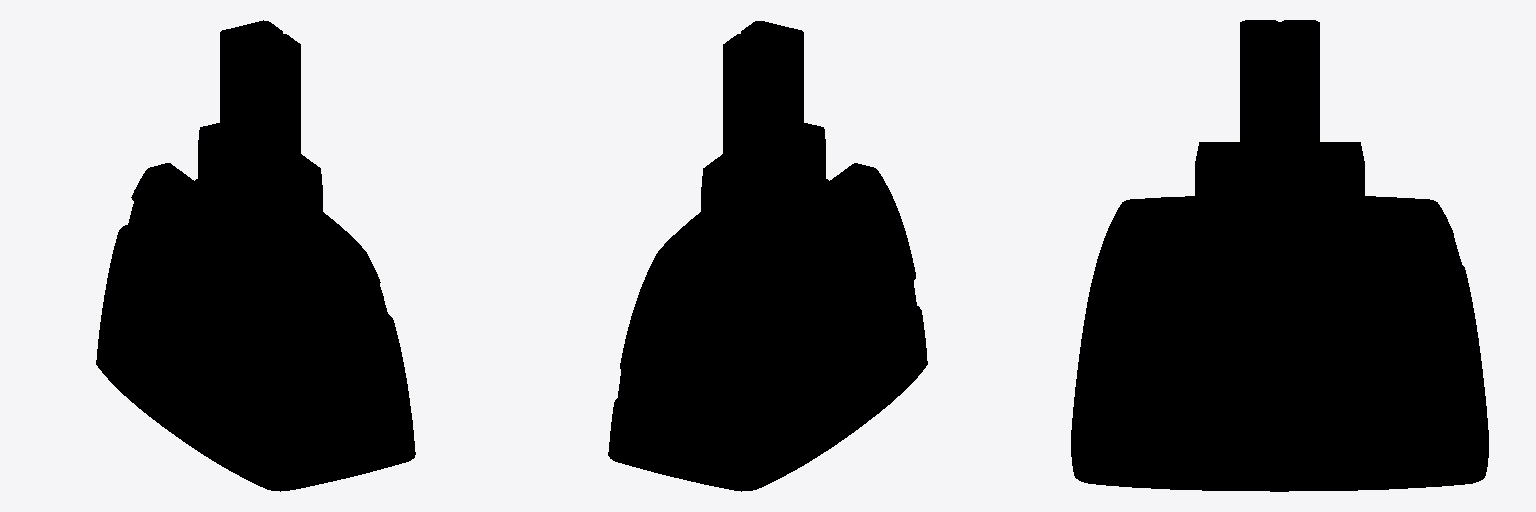
URDF robot description (youbot):
<?xml version="1.0" ?>
<!-- =================================================================================== -->
<!-- |    This document was autogenerated by xacro from robots/youbot_arm_only.urdf.xacro | -->
<!-- |    EDITING THIS FILE BY HAND IS NOT RECOMMENDED                                 | -->
<!-- =================================================================================== -->
<robot name="youbot" xmlns:controller="http://playerstage.sourceforge.net/gazebo/xmlschema/#controller" xmlns:interface="http://playerstage.sourceforge.net/gazebo/xmlschema/#interface" xmlns:sensor="http://playerstage.sourceforge.net/gazebo/xmlschema/#sensor" xmlns:xacro="http://playerstage.sourceforge.net/gazebo/xmlschema/#interface">
  <material name="Orange">
    <color rgba="1.0 0.4 0.0 1.0"/>
  </material>
  <material name="Grey">
    <color rgba="0.7 0.7 0.7 1.0"/>
  </material>
  <material name="DarkGrey">
    <color rgba="0.3 0.3 0.3 1.0"/>
  </material>
  <material name="White">
    <color rgba="1.0 1.0 1.0 1.0"/>
  </material>
  <material name="Black">
    <color rgba="0.0 0.0 0.0 1.0"/>
  </material>
  <material name="Red">
    <color rgba="1.0 0.0 0.0 1.0"/>
  </material>
  <material name="Green">
    <color rgba="0.0 1.0 0.0 1.0"/>
  </material>
  <material name="Blue">
    <color rgba="0.0 0.0 0.8 1.0"/>
  </material>
  <material name="LightGrey">
    <color rgba="0.82 0.82 0.82 1.0"/>
  </material>
  &gt;

	
  <gazebo>
    <plugin filename="libgazebo_ros_control.so" name="gazebo_ros_controller"/>
  </gazebo>
  <!-- Now we can start using the macros included above to define the actual youbot -->
  <!-- The first use of a macro.  This one was defined in base.urdf.xacro above.
       A macro like this will expand to a set of link and joint definitions, and to additional
       Gazebo-related extensions (sensor plugins, etc).  The macro takes an argument, name, 
       that equals "base", and uses it to generate names for its component links and joints 
       (e.g., base_link).  The included origin block is also an argument to the macro.  By convention, 
       the origin block defines where the component is w.r.t its parent (in this case the parent 
       is the world frame). For more, see http://www.ros.org/wiki/xacro -->
  <link name="arm_link_5">
    <inertial>
      <mass value="0.251"/>
      <origin rpy="0 0 0" xyz="0.0 0.00115 -0.01683"/>
      <inertia ixx="0.000280" ixy="0.000000" ixz="0.000000" iyy="0.000339" iyz="0.000000" izz="0.000119"/>
    </inertial>
    <visual>
      <origin rpy="0 0 0" xyz="0.003 0 -0.034"/>
      <geometry>
        <mesh filename="meshes/youbot_arm/arm5.dae"/>
      </geometry>
      <material name="DarkGrey"/>
    </visual>
    <collision>
      <origin rpy="0 0 0" xyz="0.003 0 -0.034"/>
      <geometry>
        <mesh filename="meshes/youbot_arm/arm5_convex.dae"/>
        <!--<box size="0.054 0.096 0.030"/>-->
      </geometry>
    </collision>
  </link>
  
  <gazebo reference="arm_link_5">
    <!--<material value="youbot/DarkGrey" />-->
    <turnGravityOff>false</turnGravityOff>
  </gazebo>
 
  <transmission name="arm_trans_5">
    <type>transmission_interface/SimpleTransmission</type>
    <actuator name="arm_motor_5">
      <hardwareInterface>EffortJointInterface</hardwareInterface>
      <mechanicalReduction>1</mechanicalReduction>
    </actuator>
    <joint name="arm_joint_5">
      <hardwareInterface>EffortJointInterface</hardwareInterface>
    </joint>
  </transmission>
  <!-- joint between arm_7_link and sdh_palm_link -->
  <joint name="gripper_palm_joint" type="fixed">
    <origin rpy="0 0 0" xyz="0 0 0"/>
    <parent link="arm_link_5"/>
    <child link="gripper_palm_link"/>
  </joint>
  <link name="gripper_palm_link">
    <inertial>
      <origin rpy="0 0 0" xyz="0 0 0"/>
      <mass value="0.1"/>
      <inertia ixx="0.01" ixy="0" ixz="0" iyy="0.01" iyz="0" izz="0.01"/>
    </inertial>
    <visual>
      <origin rpy="0 0 0" xyz="0 0 0"/>
      <geometry>
        <mesh filename="meshes/youbot_gripper/palm.dae"/>
      </geometry>
      <material name="Black"/>
    </visual>
    <collision>
      <origin rpy="0 0 0" xyz="0 0 0"/>
      <geometry>
        <!--<box size="0.050 0.094 0.054"/>-->
        <mesh filename="meshes/youbot_gripper/palm_convex.dae"/>
      </geometry>
    </collision>
  </link>
  <joint name="gripper_finger_joint_l" type="prismatic">
    <origin rpy="0 0 3.14159265359" xyz="0.004 0.008 0.046"/>
    <parent link="gripper_palm_link"/>
    <child link="gripper_finger_link_l"/>
    <axis xyz="0 -1 0"/>
    <dynamics damping="1.0" friction="1.0"/>
    <limit effort="1" lower="0" upper="0.0115" velocity="0.1"/>
    <safety_controller k_position="20" k_velocity="25" soft_lower_limit="0.001" soft_upper_limit="0.011"/>
  </joint>
  <link name="gripper_finger_link_l">
    <inertial>
      <origin rpy="0 0 0" xyz="0 -0.001 0"/>
      <mass value="0.01"/>
      <inertia ixx="0.01" ixy="0" ixz="0" iyy="0.01" iyz="0" izz="0.01"/>
    </inertial>
    <visual>
      <origin rpy="0 0 0" xyz="0 0 0"/>
      <geometry>
        <mesh filename="meshes/youbot_gripper/finger.dae"/>
      </geometry>
      <material name="Black"/>
    </visual>
    <collision>
      <origin rpy="0 0 0" xyz="0 0 0"/>
      <geometry>
        <!--<box size="0.014 0.020 0.046"/>-->
        <mesh filename="meshes/youbot_gripper/finger_convex.dae"/>
      </geometry>
    </collision>
  </link>
  <joint name="gripper_finger_joint_r" type="prismatic">
    <origin rpy="0 0 0" xyz="0.004 -0.008 0.046"/>
    <parent link="gripper_palm_link"/>
    <child link="gripper_finger_link_r"/>
    <axis xyz="0 -1 0"/>
    <dynamics damping="1.0" friction="1.0"/>
    <limit effort="1" lower="0" upper="0.0115" velocity="0.1"/>
    <safety_controller k_position="20" k_velocity="25" soft_lower_limit="0.001" soft_upper_limit="0.011"/>
  </joint>
  <link name="gripper_finger_link_r">
    <inertial>
      <origin rpy="0 0 0" xyz="0.000 -0.001 0"/>
      <mass value="0.01"/>
      <inertia ixx="0.01" ixy="0" ixz="0" iyy="0.01" iyz="0" izz="0.01"/>
    </inertial>
    <visual>
      <origin rpy="0 0 0" xyz="0 0 0"/>
      <geometry>
        <mesh filename="meshes/youbot_gripper/finger.dae"/>
      </geometry>
      <material name="Black"/>
    </visual>
    <collision>
      <origin rpy="0 0 0" xyz="0.000 0 0"/>
      <geometry>
        <!--<box size="0.014 0.020 0.046"/>-->
        <mesh filename="meshes/youbot_gripper/finger_convex.dae"/>
      </geometry>
    </collision>
  </link>
  <gazebo reference="gripper_palm_link">
    <material>Gazebo/Black</material>
    <turnGravityOff>false</turnGravityOff>
    <selfCollide>true</selfCollide>
  </gazebo>
  <gazebo reference="gripper_finger_l_link">
    <material>Gazebo/Black</material>
    <turnGravityOff>false</turnGravityOff>
    <selfCollide>true</selfCollide>
  </gazebo>
  <gazebo reference="gripper_finger_r_link">
    <material>Gazebo/Black</material>
    <turnGravityOff>false</turnGravityOff>
    <selfCollide>true</selfCollide>
  </gazebo>
  <transmission name="gripper_finger_l_trans">
    <type>transmission_interface/SimpleTransmission</type>
    <actuator name="gripper_finger_l_motor">
      <hardwareInterface>EffortJointInterface</hardwareInterface>
      <mechanicalReduction>1</mechanicalReduction>
    </actuator>
    <joint name="gripper_finger_joint_l">
      <hardwareInterface>EffortJointInterface</hardwareInterface>
    </joint>
  </transmission>
  <transmission name="gripper_finger_r_trans">
    <type>transmission_interface/SimpleTransmission</type>
    <actuator name="gripper_finger_r_motor">
      <hardwareInterface>EffortJointInterface</hardwareInterface>
      <mechanicalReduction>1</mechanicalReduction>
    </actuator>
    <joint name="gripper_finger_joint_r">
      <hardwareInterface>EffortJointInterface</hardwareInterface>
    </joint>
  </transmission>
</robot>

--- Render facts (derived) ---
3 views of the same robot in one strip: view 1: azimuth 30°, elevation 25°; view 2: azimuth 150°, elevation 25°; view 3: azimuth 270°, elevation 25° (orthographic).
Robot: youbot — 4 links, 3 joints (2 prismatic, 1 fixed); root link arm_link_5; default pose: all joints at 0.
Visible links, largest first — view 1: gripper_palm_link, gripper_finger_link_r, gripper_finger_link_l; view 2: gripper_palm_link, gripper_finger_link_l, gripper_finger_link_r; view 3: gripper_palm_link, gripper_finger_link_l, gripper_finger_link_r.
Boxes of the visible links, x1,y1,x2,y2 form: gripper_palm_link: (96, 163, 415, 491); gripper_finger_link_r: (236, 34, 322, 235); gripper_finger_link_l: (198, 20, 282, 207); gripper_palm_link: (608, 163, 927, 491); gripper_finger_link_l: (701, 33, 787, 235); gripper_finger_link_r: (741, 21, 825, 207); gripper_palm_link: (1071, 196, 1488, 491); gripper_finger_link_l: (1280, 20, 1364, 229); gripper_finger_link_r: (1195, 20, 1279, 229).
Size in the robot's own frame: 0.0507 by 0.0932 by 0.1014 metres.
3 mesh visuals loaded from 3 distinct referenced files (2 Collada DAE); not drawn: 1 (reference not matched to a file when rendering).
